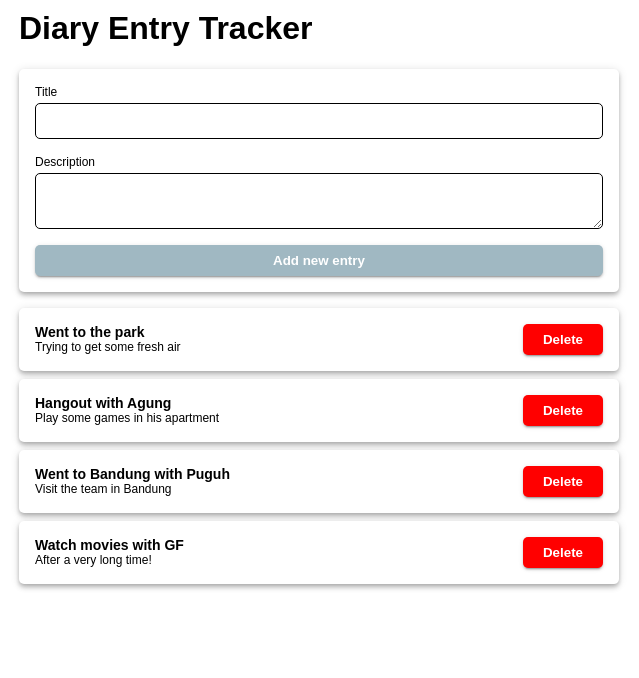
Test: should be able to create diary entry
Type "This is title" into the field labelled "Title" at (319, 121), box 35,103 -> 603,139
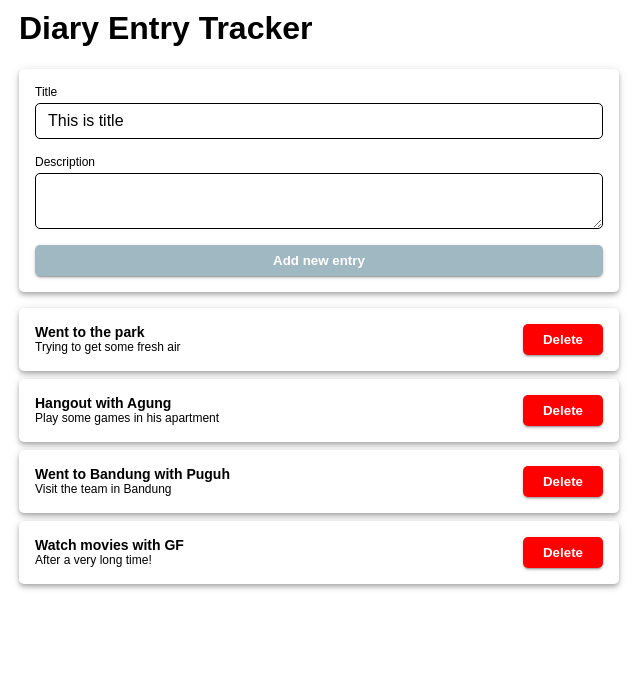
Type "This is description" into the text box labelled "Description" at (319, 201), box 35,173 -> 603,229
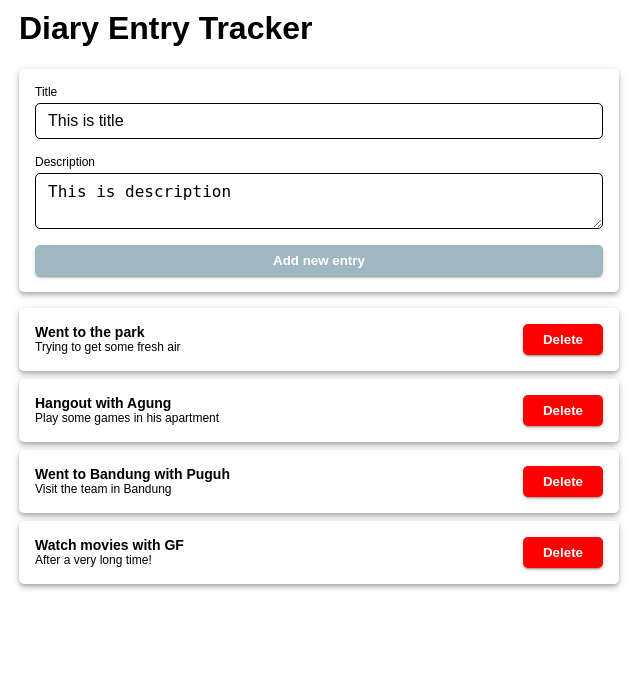
Click the button "Add new entry" at (319, 260), box 35,245 -> 603,276
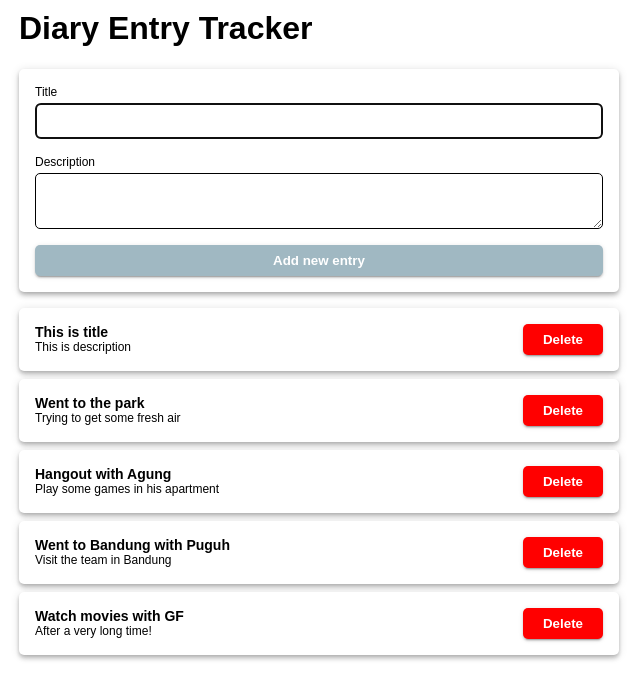
expect the text "This is title" is shown: met, box 35,324 -> 108,340
expect the text "This is description" is shown: met, box 35,340 -> 131,354
expect the field labelled "Title" is empty: met, box 35,103 -> 603,139
